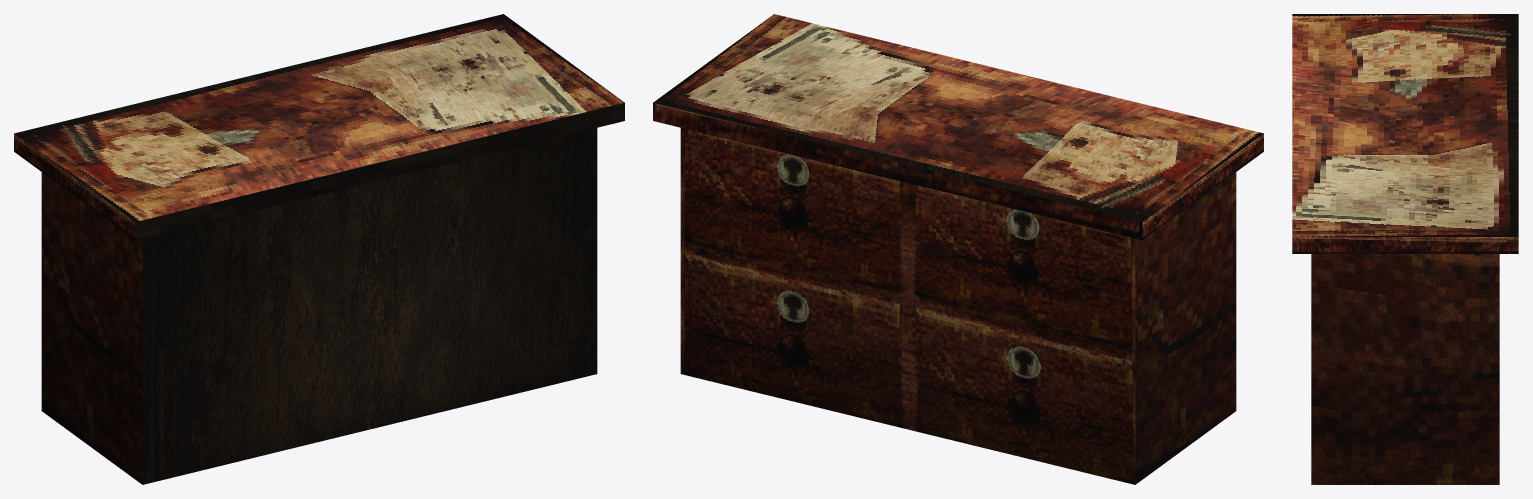
Rendered from shkaf.glb.
3 renders of one model, left to right at view 1: azimuth 30°, elevation 25°; view 2: azimuth 150°, elevation 25°; view 3: azimuth 270°, elevation 25°, orthographic. The views are drawn at different scales.
Visible parts, largest first — view 1: mesh (×2); view 2: mesh (×2); view 3: mesh (×2).
Boxes of the visible parts, box(x1,y1,x2,y2) form: mesh (×2): box(14, 14, 624, 484); mesh (×2): box(653, 14, 1263, 484); mesh (×2): box(1292, 14, 1518, 484).
Size of the model in its own units: 1.75 by 0.9375 by 0.75.
Materials: 1 (1 with a texture image).
